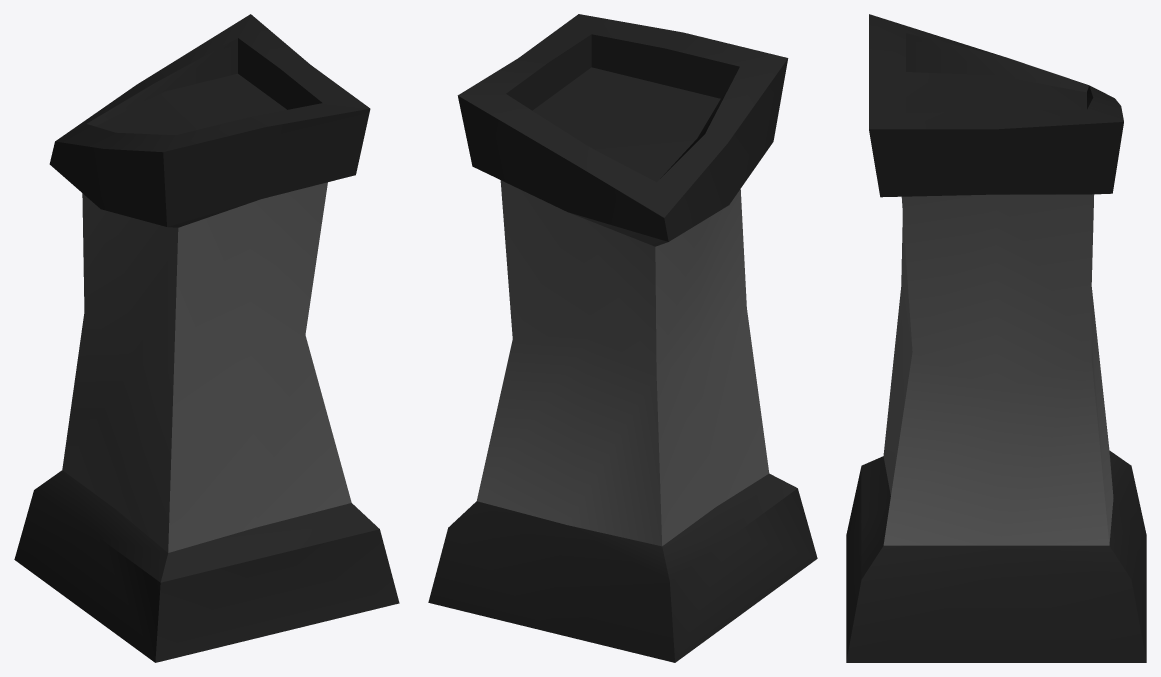
The model's file is Pillar_slanted_C.fbx.
3 views of the same model, side by side, from view 1: azimuth 30°, elevation 25°; view 2: azimuth 150°, elevation 25°; view 3: azimuth 270°, elevation 25° (orthographic). The views are drawn at different scales.
Visible parts, largest first — view 1: Pillar_slanted_C; view 2: Pillar_slanted_C; view 3: Pillar_slanted_C.
Part boxes in pixels (x1,y1,x2,y2): Pillar_slanted_C: (14,14,399,662); Pillar_slanted_C: (428,14,817,662); Pillar_slanted_C: (846,14,1146,662).
Bounding box in the file's own units: 50.58 × 98.67 × 50.58.
